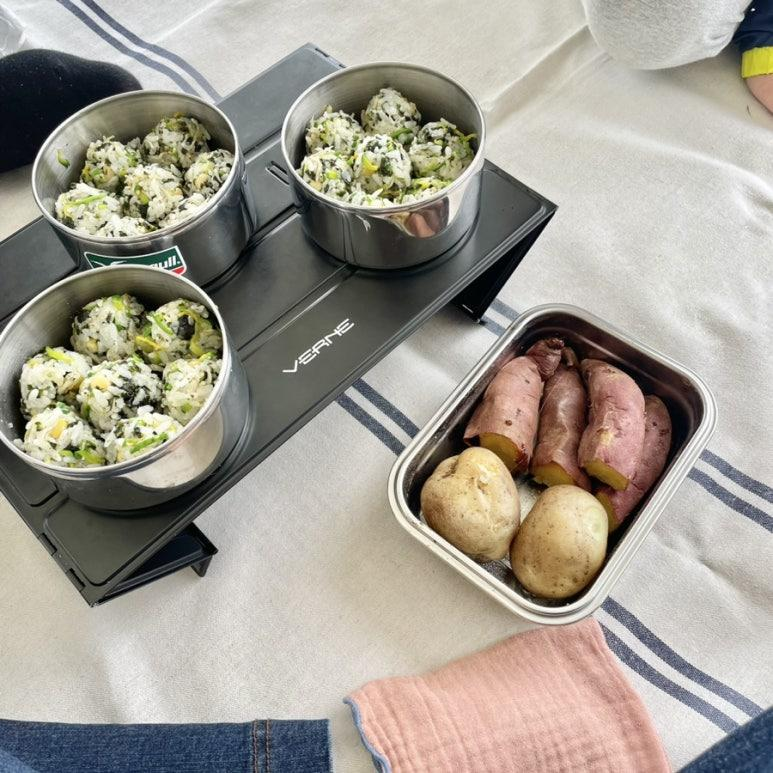Lunch Box: (389, 304, 715, 624), (0, 266, 247, 509), (33, 91, 256, 284), (281, 63, 484, 268)
